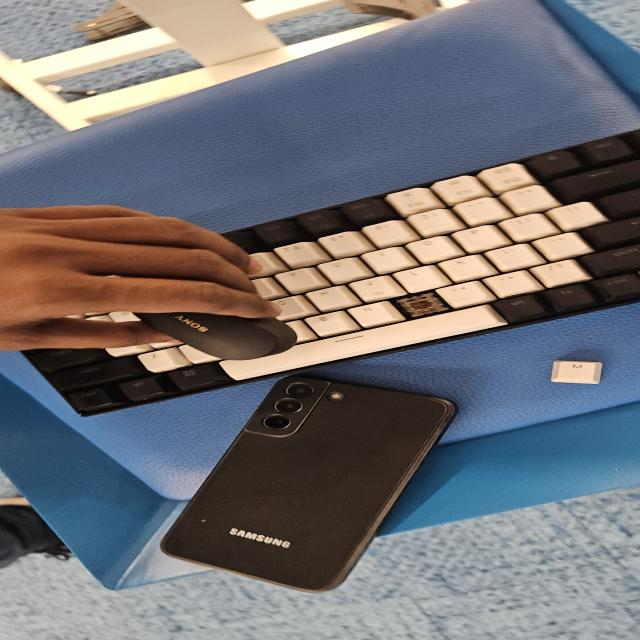C: (402, 300, 452, 314), (399, 300, 440, 316)
